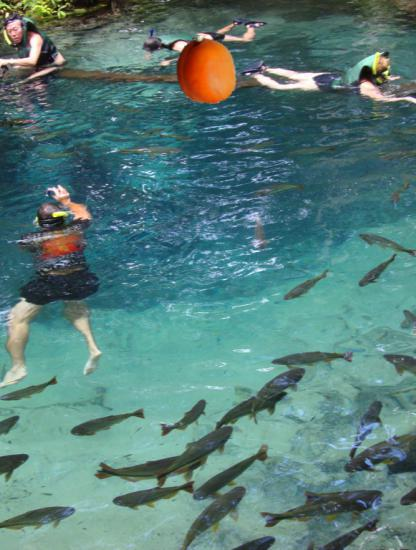Apricot: (171, 36, 240, 105)
